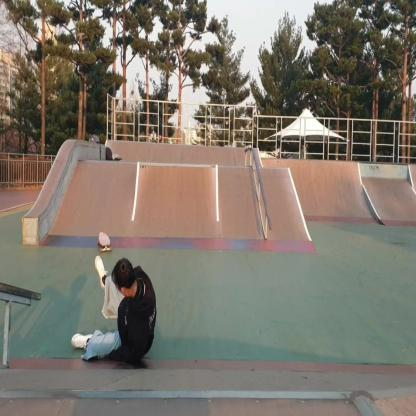Fall_Down: (70, 252, 162, 370)
